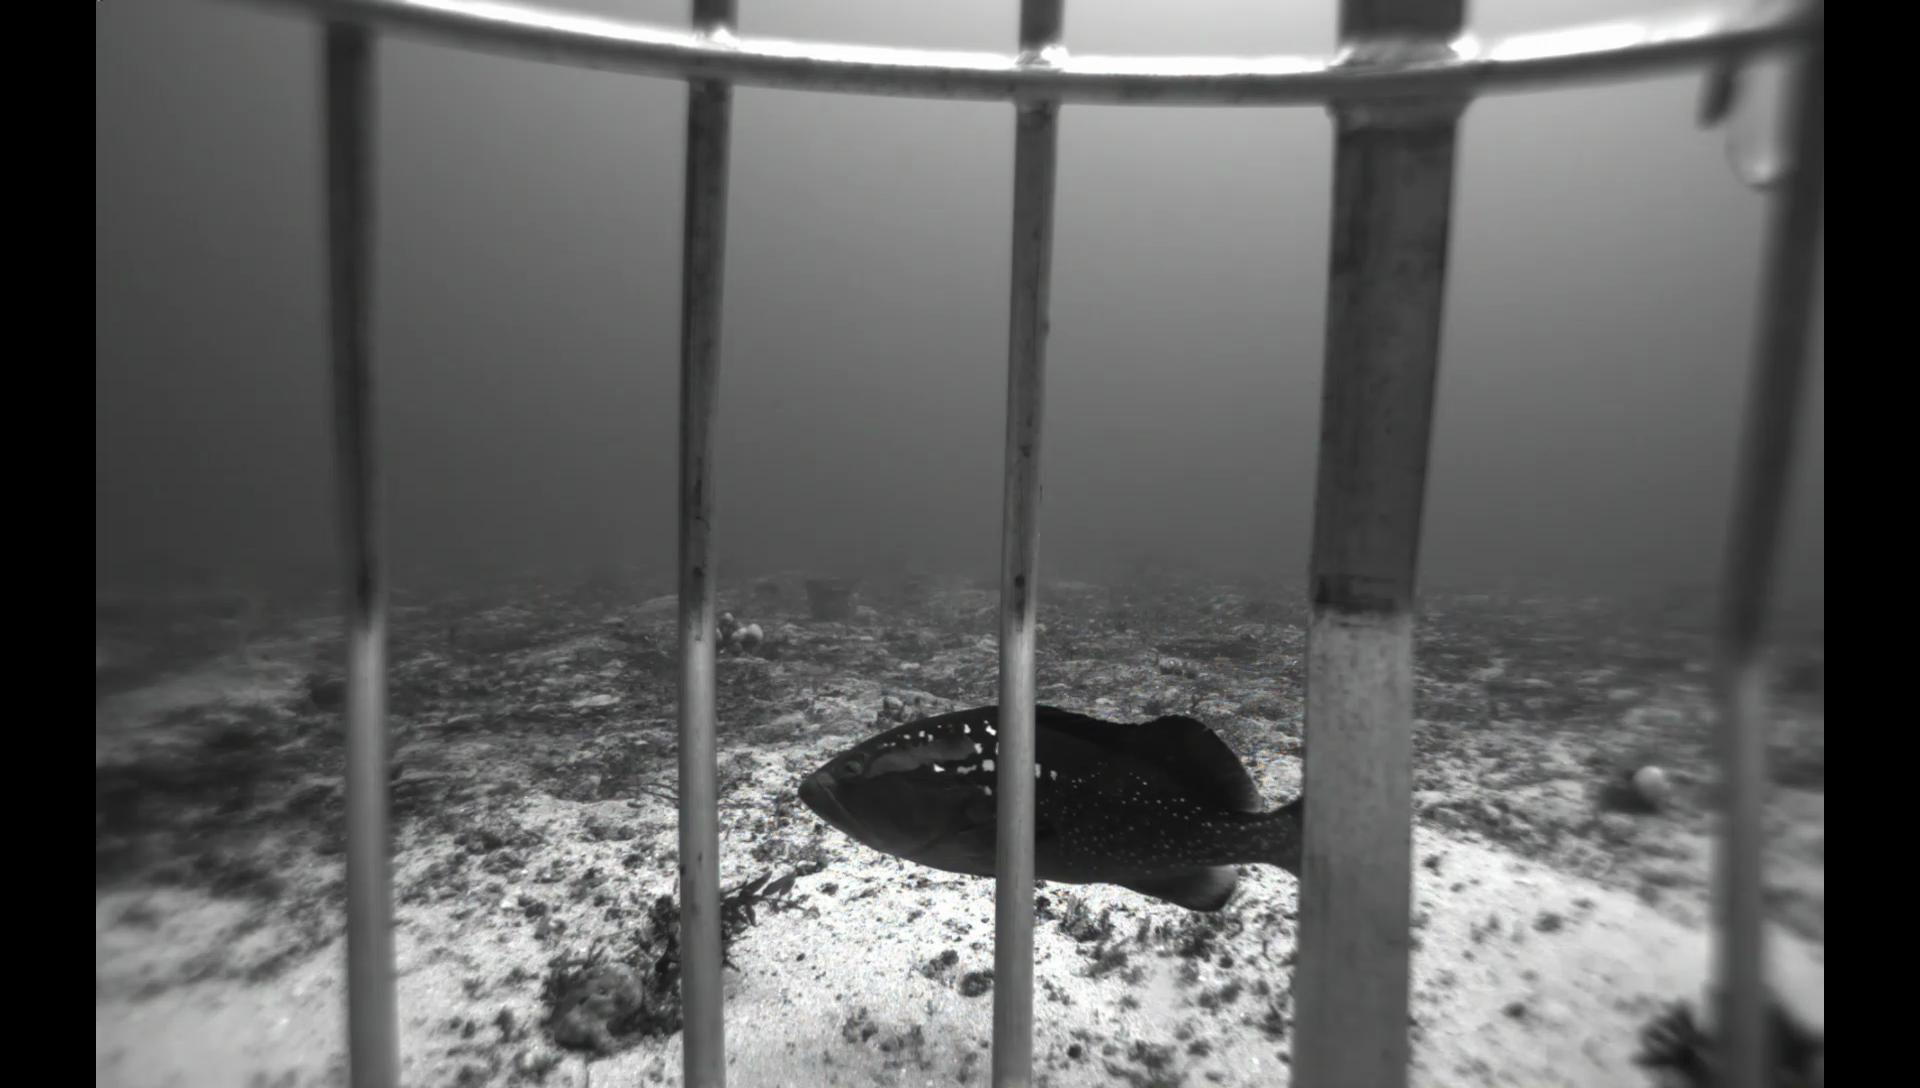CHAETODONOCELLATUS-170260307: (1480, 586, 1520, 612), (1415, 582, 1425, 601)
EPINEPHELUSMORIO-170021211: (793, 692, 1303, 918)
PRISTIGENYSALTA-170050401: (295, 670, 345, 713)
